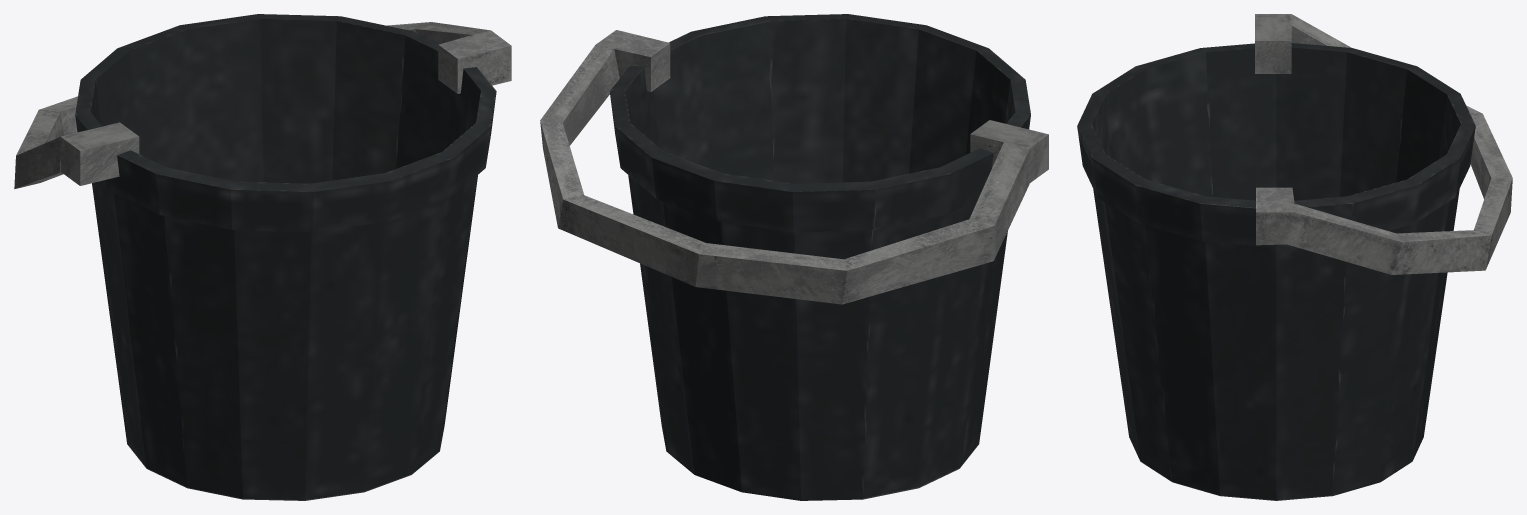
The model's file is balde.obj.
The picture shows the model from 3 angles, left to right: view 1: azimuth 30°, elevation 25°; view 2: azimuth 150°, elevation 25°; view 3: azimuth 270°, elevation 25°; orthographic projection. The views are drawn at different scales.
Visible parts, largest first — view 1: Cylinder, Cube; view 2: Cylinder, Cube; view 3: Cylinder, Cube.
Part boxes in pixels (x1,y1,x2,y2): Cylinder: (75,14,496,500); Cube: (14,22,511,189); Cylinder: (609,14,1030,500); Cube: (540,30,1048,304); Cylinder: (1077,43,1475,500); Cube: (1255,14,1512,274).
Size of the model in its own units: 0.8993 by 0.6813 by 0.8254.
1 material, 1 textured.
